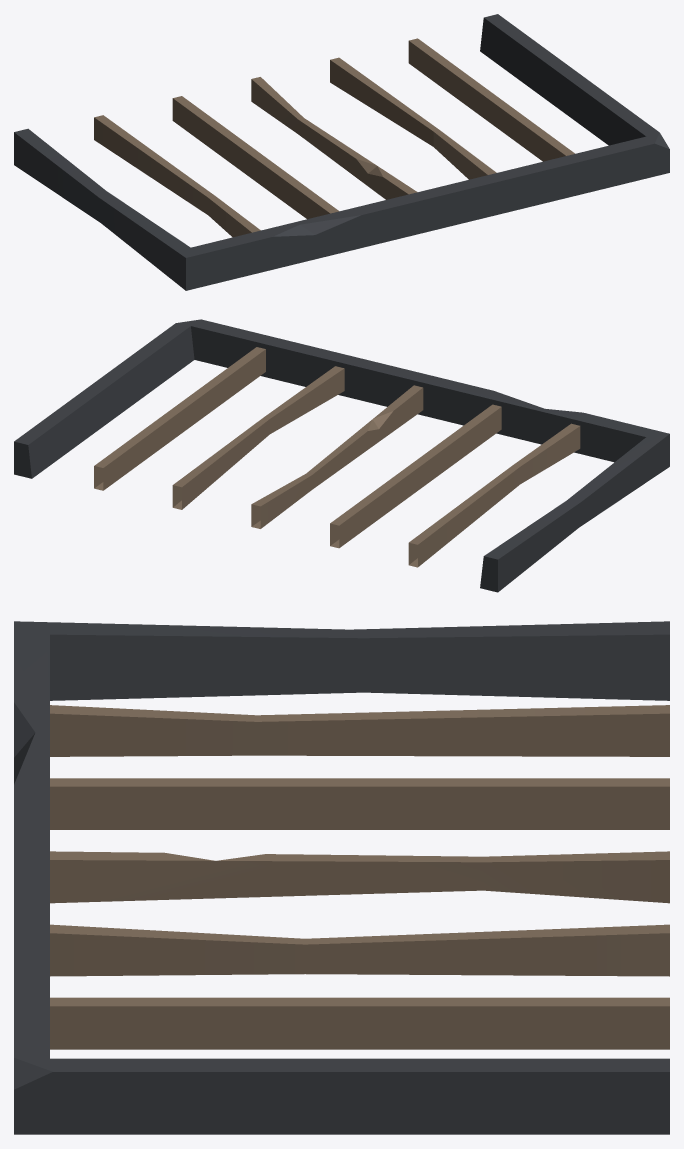
Rendered from SM_Bld_Shop_Cover_01.obj.
3 renders of one model, top to bottom at view 1: azimuth 30°, elevation 25°; view 2: azimuth 150°, elevation 25°; view 3: azimuth 270°, elevation 25°, orthographic. The views are drawn at different scales.
Parts seen in each view (by area): view 1: SM_Bld_Shop_Cover_01_0; view 2: SM_Bld_Shop_Cover_01_0; view 3: SM_Bld_Shop_Cover_01_0.
Part boxes in pixels (x1,y1,x2,y2): SM_Bld_Shop_Cover_01_0: [14, 14, 669, 290]; SM_Bld_Shop_Cover_01_0: [14, 319, 669, 592]; SM_Bld_Shop_Cover_01_0: [14, 621, 669, 1134].
Size of the model in its own units: 4.57 by 0.2974 by 2.81.
1 material, 1 textured.
